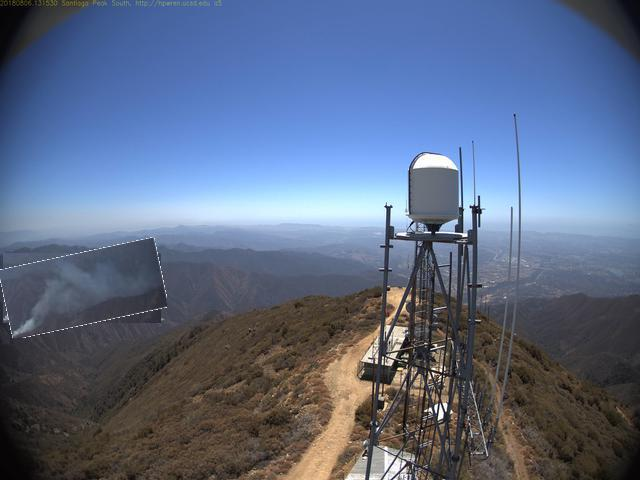smoke: (1, 246, 166, 333)
